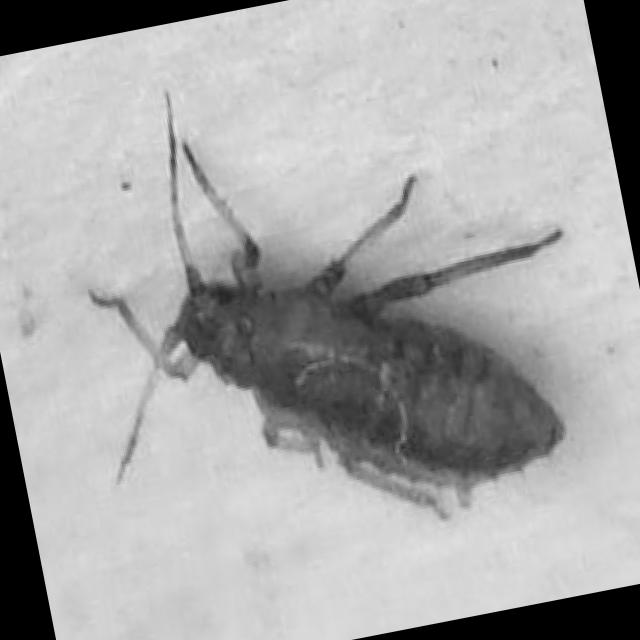Aphids: (41, 35, 614, 580)
